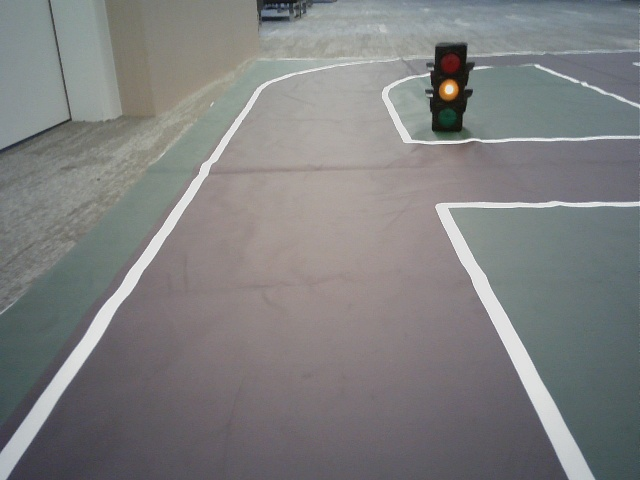yellow: (430, 46, 462, 126)
